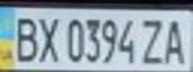0: (63, 14, 84, 63)
3: (81, 15, 103, 64)
4: (118, 15, 142, 65)
9: (100, 15, 121, 64)
A: (160, 15, 193, 65)
B: (9, 12, 42, 63)
X: (33, 12, 63, 63)
Z: (139, 15, 169, 65)
